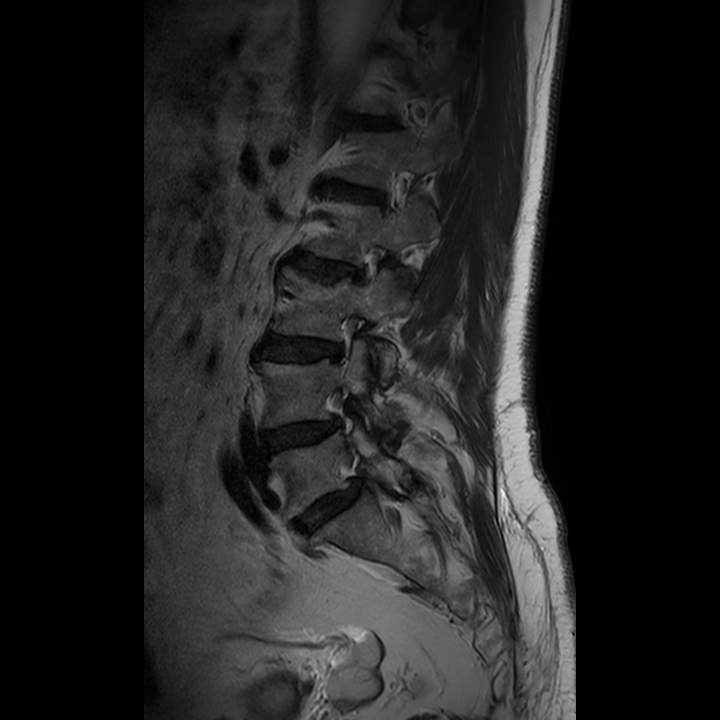LFS1: (320, 303, 373, 375)
